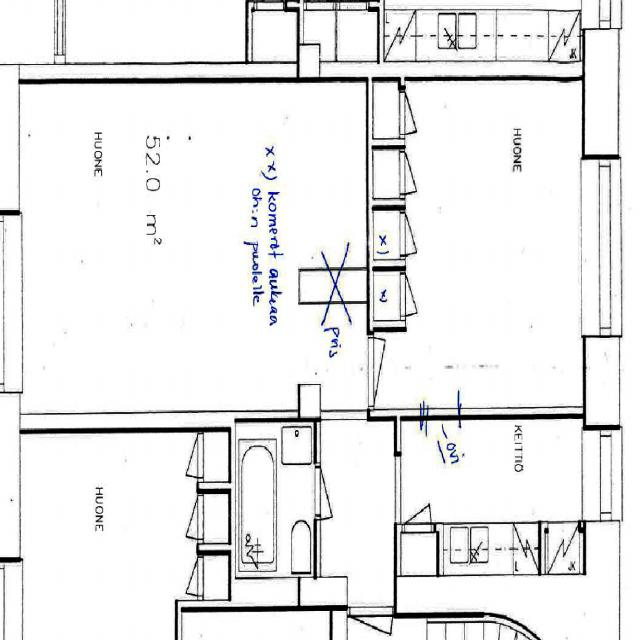door: (368, 337, 416, 405), (423, 352, 460, 422), (314, 466, 353, 519), (404, 481, 430, 534), (399, 91, 431, 133), (400, 152, 430, 193)
